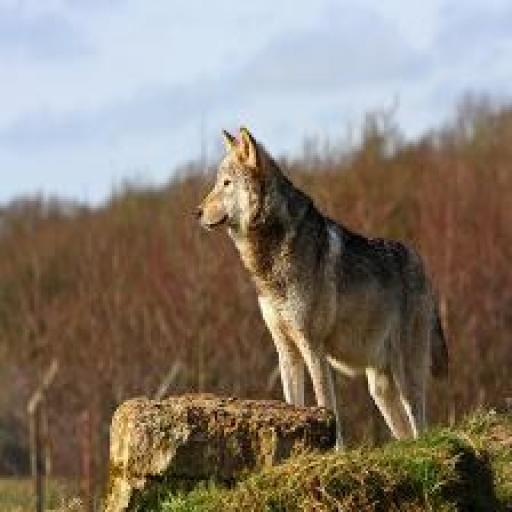wolf: (192, 128, 451, 459)
